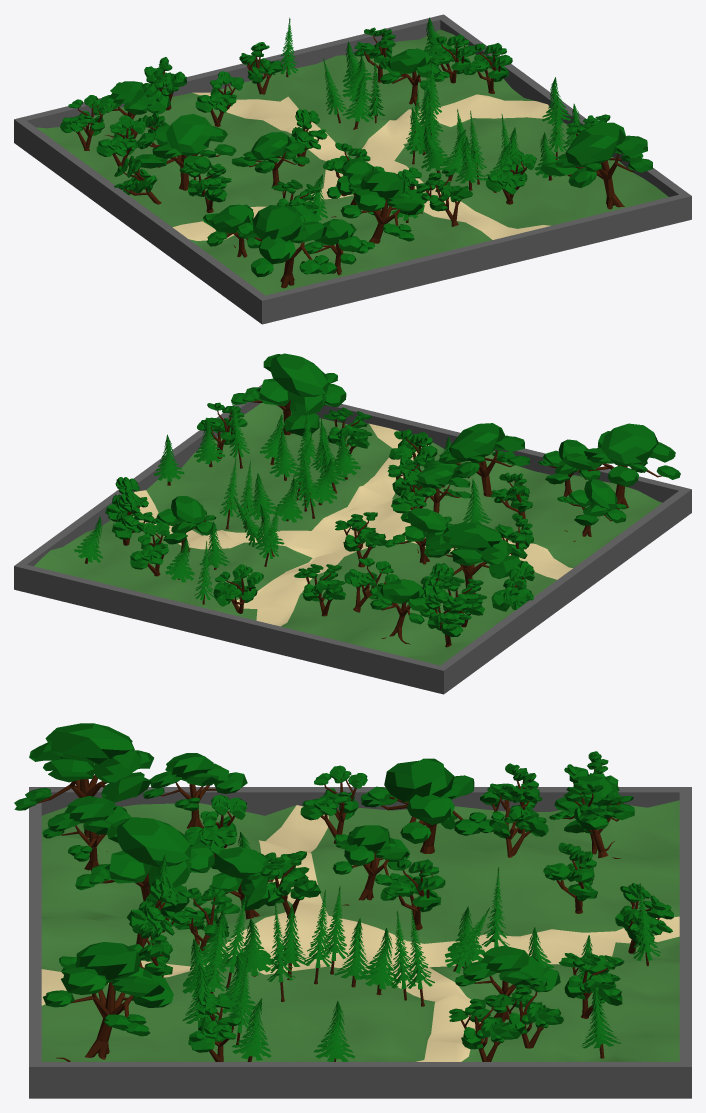
Rendered from Park.fbx.
The picture shows the model from 3 angles, top to bottom: view 1: azimuth 30°, elevation 25°; view 2: azimuth 150°, elevation 25°; view 3: azimuth 270°, elevation 25°; orthographic projection. The views are drawn at different scales.
Parts seen in each view (by area): view 1: Park; view 2: Park; view 3: Park.
Part boxes in pixels (x1=…): Park: x1=14, y1=14, x2=691, y2=324; Park: x1=14, y1=353, x2=691, y2=694; Park: x1=14, y1=723, x2=691, y2=1098.
Bounding box in the file's own units: 9 × 1.88 × 9.21.
